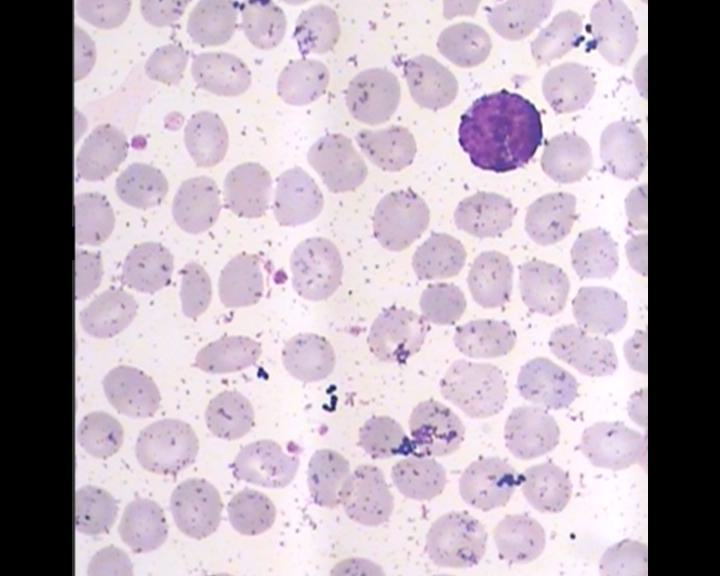baso: (450, 85, 543, 178)
